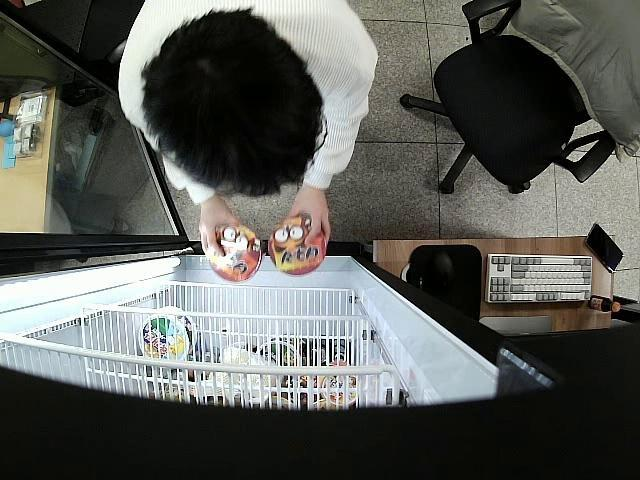05_nuguri_L: (268, 216, 326, 276), (208, 225, 262, 285)
